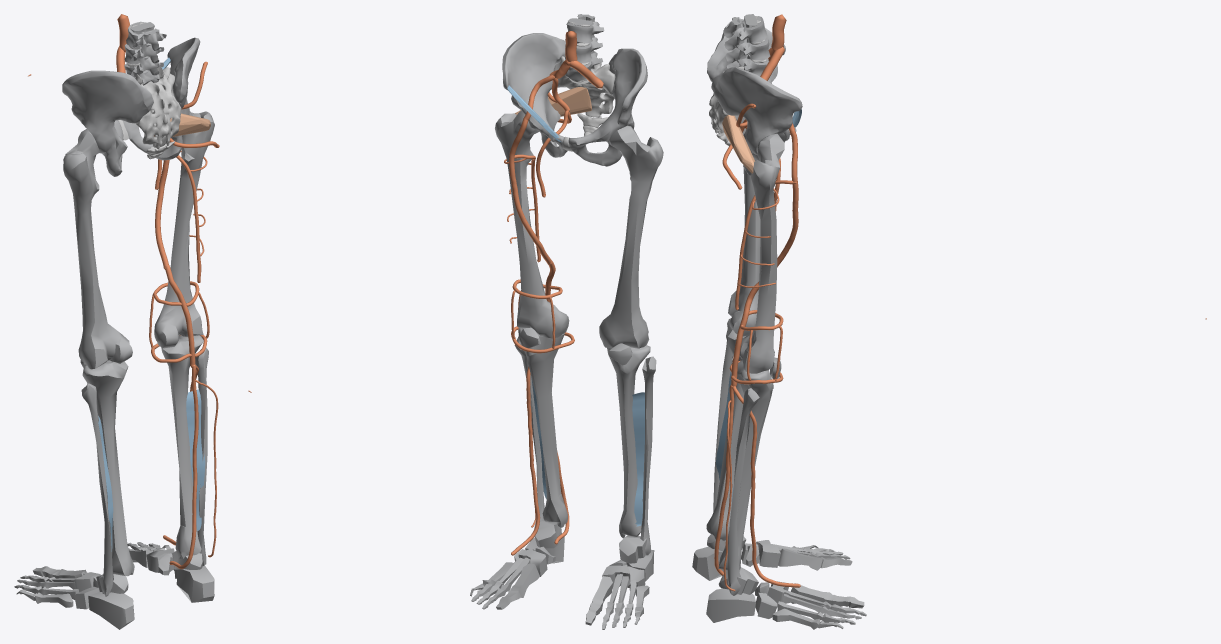
The model's file is blood_supply_to_the_lower_limb.glb.
3 renders of one model, left to right at view 1: azimuth 30°, elevation 25°; view 2: azimuth 150°, elevation 25°; view 3: azimuth 270°, elevation 25°, orthographic. The views are drawn at different scales.
Visible parts, largest first — view 1: Lower limb grey_0_0_0_8, brush_Icing_g0_b0_5, Lower limb grey_2_0_0_10, brush_Marker_g0_b0_0, brush_MatteHull_g0_b0_3; view 2: Lower limb grey_0_0_0_8, brush_Icing_g0_b0_5, Lower limb grey_2_0_0_10, brush_Marker_g0_b0_0, brush_MatteHull_g0_b0_3; view 3: Lower limb grey_0_0_0_8, brush_Icing_g0_b0_5, brush_MatteHull_g0_b0_3.
Boxes of the visible parts, left/top/right/bottom form: Lower limb grey_0_0_0_8: left=14, top=21, right=214, bottom=629; brush_Icing_g0_b0_5: left=116, top=14, right=219, bottom=569; Lower limb grey_2_0_0_10: left=135, top=67, right=181, bottom=159; brush_Marker_g0_b0_0: left=98, top=389, right=205, bottom=551; brush_MatteHull_g0_b0_3: left=161, top=57, right=210, bottom=136; Lower limb grey_0_0_0_8: left=470, top=14, right=663, bottom=629; brush_Icing_g0_b0_5: left=504, top=31, right=603, bottom=555; Lower limb grey_2_0_0_10: left=554, top=56, right=615, bottom=136; brush_Marker_g0_b0_0: left=531, top=377, right=644, bottom=526; brush_MatteHull_g0_b0_3: left=507, top=85, right=591, bottom=142; Lower limb grey_0_0_0_8: left=692, top=14, right=866, bottom=629; brush_Icing_g0_b0_5: left=714, top=14, right=800, bottom=591; brush_MatteHull_g0_b0_3: left=722, top=109, right=801, bottom=173.
Size of the model in its own units: 0.1339 by 0.3569 by 0.2866.
7 materials, 1 textured.
